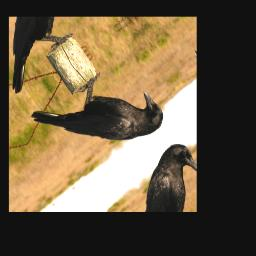Crow: (28, 44, 169, 193)
